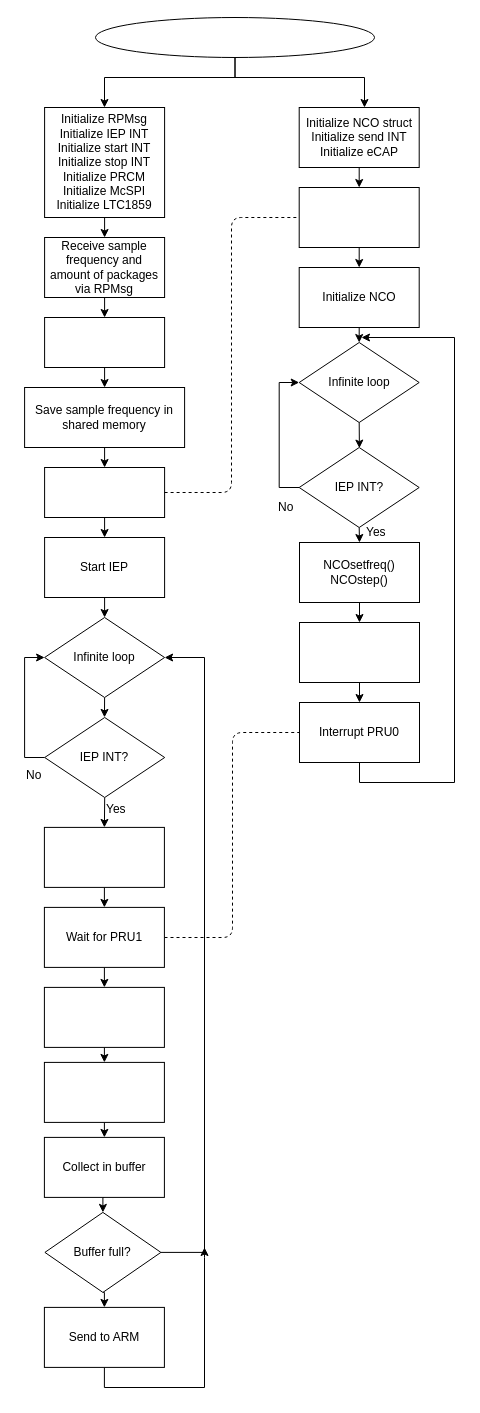
Some shapes in this 480 by 1413 pixel diagram are drawn without their labels. Each missing label, with the centre of its shape:
Clear interrupt Sample ADC: the point at 103,856
Initialize IEP: the point at 104,342
Interrupt PRU1: the point at 104,492
Low-pass filter: the point at 103,1091
PRU-ICSS Lock-in amplifier: the point at 234,37
Quadrature multiplication: the point at 103,1016
Save NCO output in shared memory: the point at 359,652
Wait for PRU0: the point at 358,217
